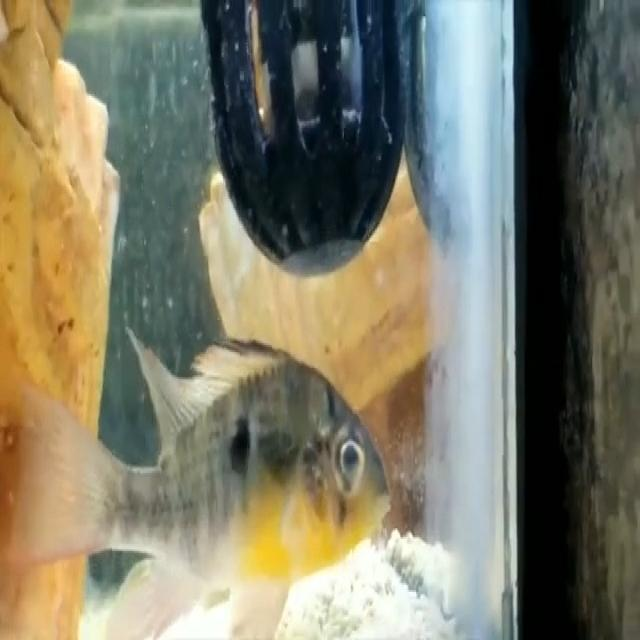fish: (20, 333, 398, 640)
